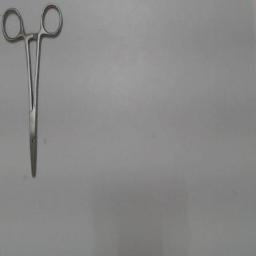Mayo Needle Holder: (0, 2, 66, 184)
